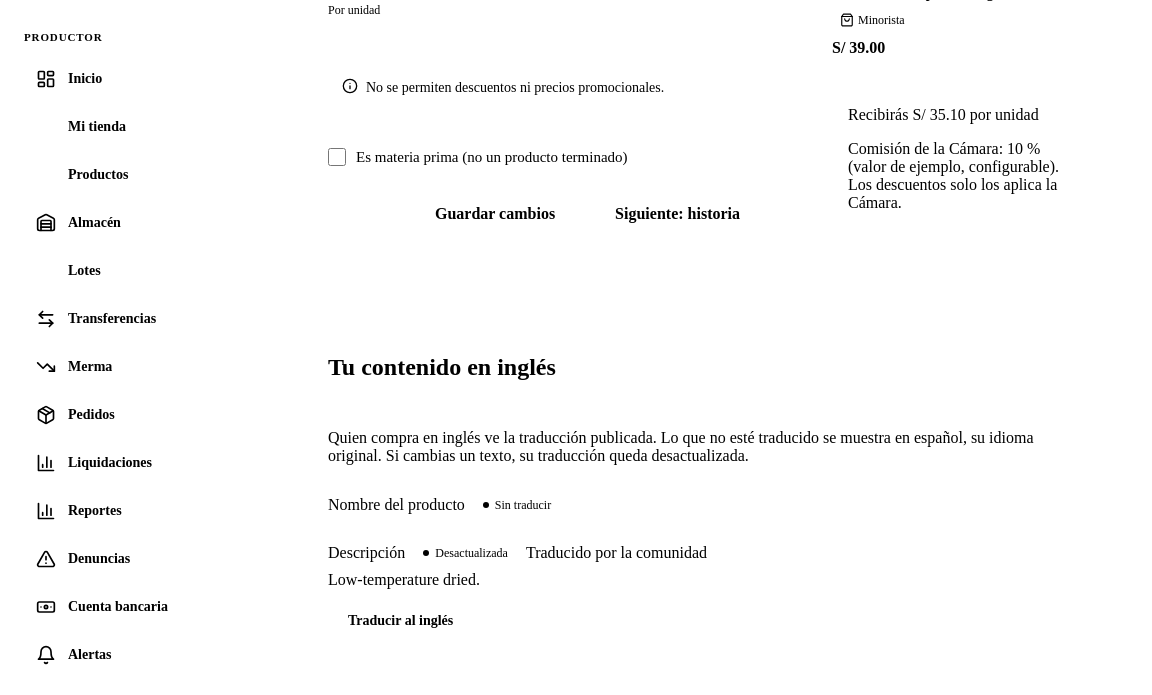
Test: PW-04 Traducir el producto (CCPIP-147) › si el servicio responde 503 el contenido queda como estaba y se avisa
(page scrolled)
Click the button "Traducir al inglés" at (401, 620), box [328,600,473,640]
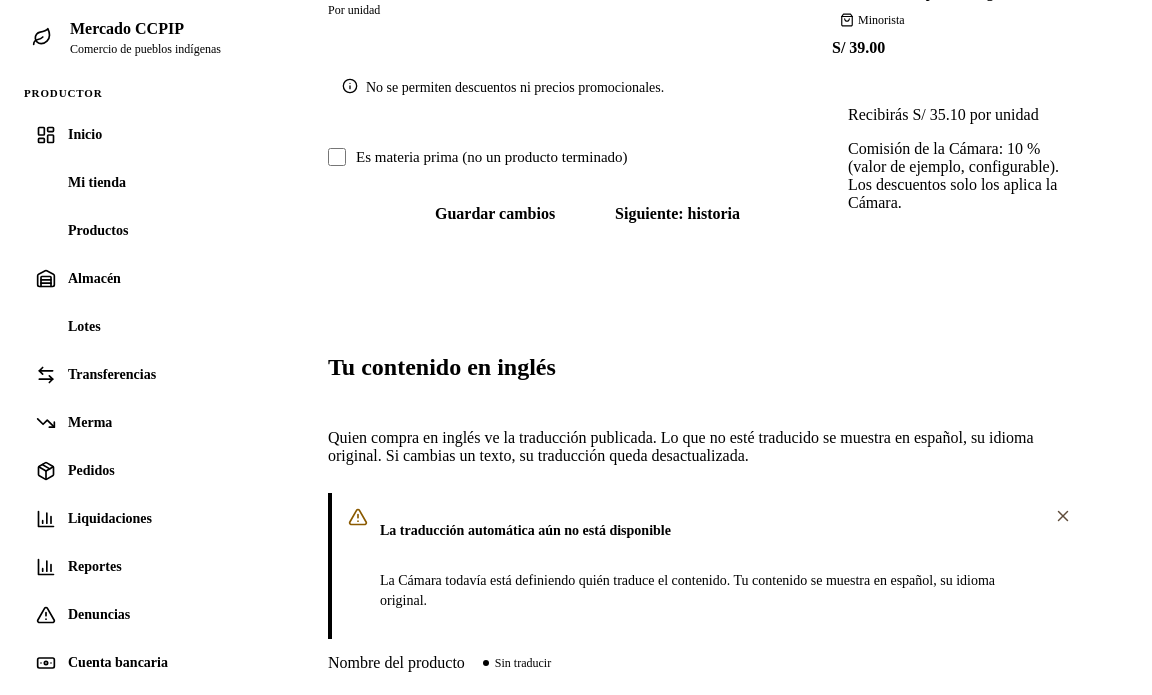
Expected: the text "Sin traducir" is shown, [483,656,551,670]
Expected: the message shows "La traducción automática aún no está disponible", [380,522,671,538]
